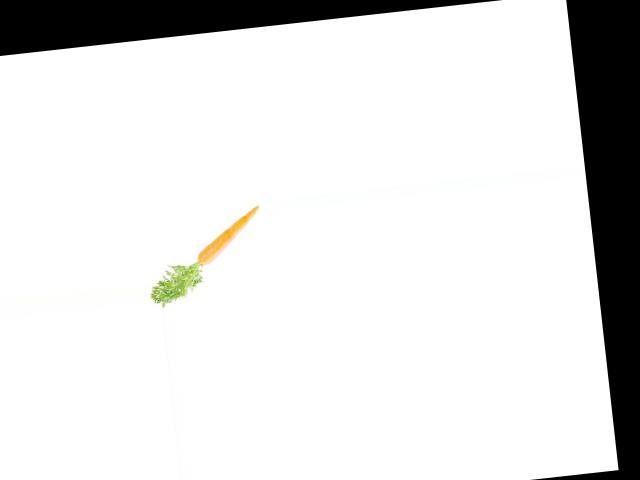carrot: (184, 203, 267, 268)
